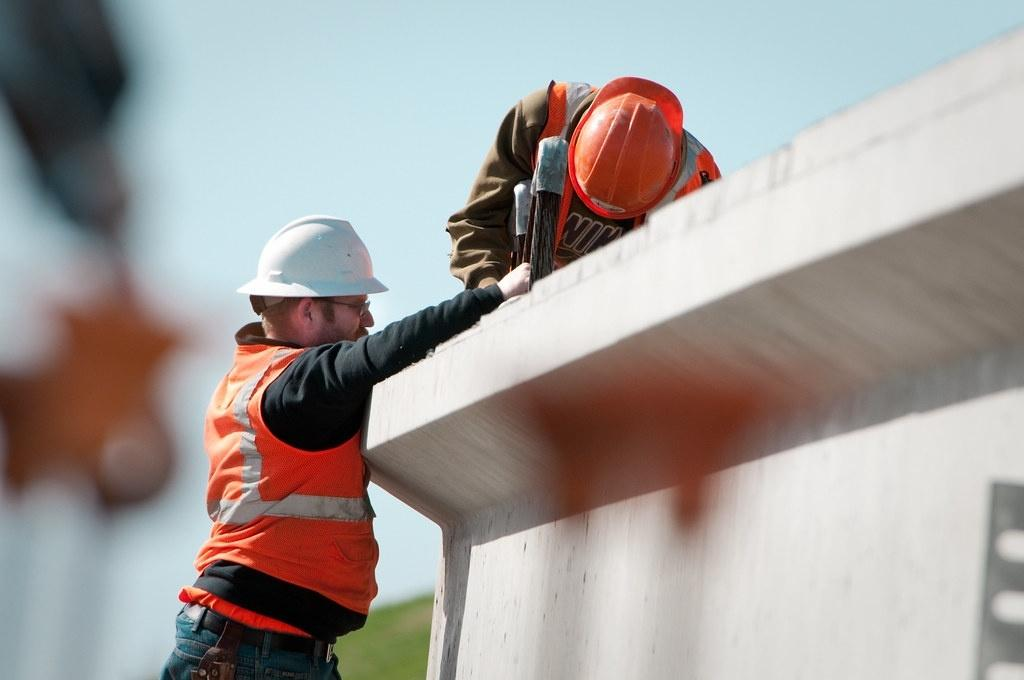helmet: (568, 77, 682, 218), (238, 215, 386, 297)
vest: (195, 346, 378, 613), (655, 130, 720, 206)
worker: (162, 215, 528, 679), (447, 77, 720, 288)
